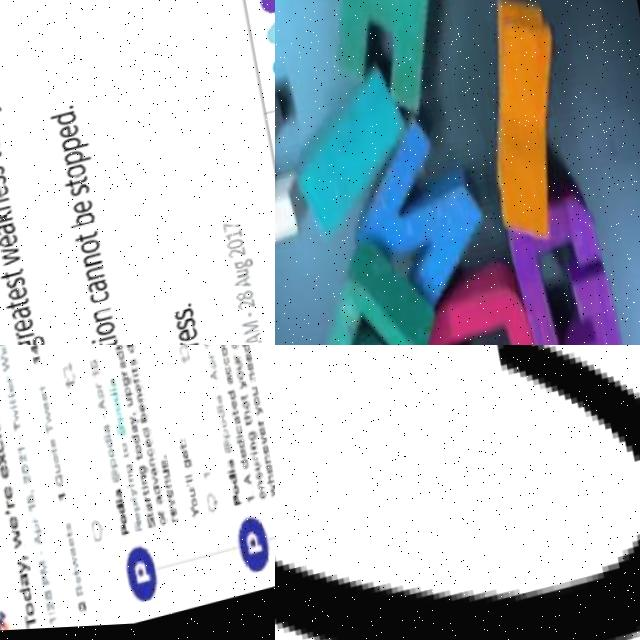0: (228, 242, 246, 256), (24, 465, 32, 476)
1: (225, 232, 245, 246), (60, 493, 68, 504), (52, 618, 62, 626), (32, 507, 39, 514), (20, 448, 27, 455), (35, 359, 42, 366), (94, 373, 101, 380), (250, 499, 257, 506), (206, 345, 214, 351), (206, 477, 213, 482)
2: (239, 301, 259, 316), (231, 249, 249, 263), (48, 601, 59, 614), (81, 603, 90, 615), (21, 455, 30, 465), (26, 476, 34, 486)
4: (32, 345, 40, 357)
5: (29, 495, 37, 507), (93, 361, 101, 372)
7: (224, 224, 243, 237)
8: (238, 293, 256, 307), (48, 591, 56, 602)
A: (22, 574, 34, 590), (97, 399, 108, 414), (37, 534, 45, 548), (246, 476, 254, 490), (212, 373, 220, 385), (118, 490, 126, 501), (105, 425, 113, 436), (158, 497, 166, 508), (236, 419, 244, 430), (228, 378, 236, 389), (110, 380, 118, 390), (148, 505, 156, 515), (133, 427, 141, 437), (121, 363, 129, 373), (153, 470, 161, 480), (230, 462, 238, 472), (217, 397, 225, 407), (244, 405, 252, 415)
B: (142, 415, 150, 425)
C: (275, 538, 640, 640), (0, 439, 8, 455), (237, 428, 246, 439), (226, 369, 235, 380), (225, 359, 233, 370), (149, 451, 157, 461)
D: (315, 239, 450, 345), (23, 588, 36, 605), (117, 352, 126, 364), (128, 346, 137, 357), (243, 345, 252, 356), (133, 437, 142, 447), (219, 413, 228, 423), (121, 506, 129, 517), (112, 394, 120, 405), (156, 488, 164, 499), (232, 478, 240, 489), (230, 393, 238, 404), (106, 441, 114, 451), (145, 432, 153, 442), (243, 463, 251, 473), (239, 443, 247, 453)
E: (10, 515, 23, 533), (5, 486, 17, 503), (1, 465, 13, 482), (51, 439, 60, 450), (261, 493, 270, 504), (264, 448, 273, 459), (184, 451, 192, 463), (70, 539, 79, 549), (42, 393, 51, 403), (136, 386, 145, 396), (248, 365, 257, 375), (2, 346, 10, 357), (72, 549, 80, 560), (137, 514, 145, 525), (147, 440, 155, 451), (140, 405, 148, 416), (267, 467, 275, 478), (247, 355, 255, 366), (9, 384, 17, 394), (78, 577, 86, 587), (45, 403, 53, 413), (172, 510, 180, 520), (168, 492, 176, 502), (163, 462, 171, 472), (242, 452, 250, 462), (233, 403, 241, 413), (261, 430, 269, 440)
F: (134, 379, 141, 386), (160, 514, 167, 519)
G: (486, 168, 633, 345), (127, 465, 135, 476), (141, 467, 149, 478), (125, 378, 133, 389), (187, 461, 195, 472), (251, 434, 259, 445)
H: (275, 62, 328, 289), (245, 413, 253, 423), (268, 477, 275, 487)
I: (111, 389, 118, 395), (118, 348, 125, 354), (238, 437, 245, 443), (105, 435, 113, 440), (12, 405, 19, 410), (118, 501, 125, 506), (130, 486, 137, 491), (143, 488, 150, 493), (134, 375, 141, 380), (230, 473, 237, 478), (219, 408, 226, 413), (0, 435, 4, 441), (253, 456, 259, 459)
L: (188, 477, 195, 483), (134, 501, 140, 503), (189, 483, 195, 485)
M: (42, 560, 51, 577)
N: (128, 476, 137, 486), (151, 459, 159, 470), (260, 484, 268, 495), (252, 444, 260, 455), (251, 375, 259, 386), (143, 477, 151, 487), (138, 395, 146, 405), (166, 482, 174, 492), (266, 458, 274, 468), (115, 345, 123, 348)
O: (408, 270, 545, 345), (27, 603, 39, 619), (193, 500, 202, 512), (234, 488, 243, 500), (122, 516, 131, 527), (110, 450, 118, 462), (115, 404, 123, 416), (238, 373, 246, 385), (54, 456, 63, 466), (162, 518, 170, 529), (222, 349, 230, 360), (255, 399, 263, 410), (123, 446, 131, 456), (137, 447, 145, 457), (222, 423, 230, 433)
P: (225, 431, 234, 443), (45, 575, 53, 587), (124, 526, 132, 538), (236, 498, 244, 510), (99, 391, 108, 401), (117, 414, 126, 424), (113, 460, 121, 471), (134, 503, 142, 514), (126, 389, 134, 400), (212, 362, 220, 373), (37, 525, 45, 535)
Q: (55, 474, 68, 490)
R: (138, 524, 146, 536), (78, 587, 87, 597), (9, 500, 17, 510), (7, 377, 15, 384), (147, 498, 154, 506), (173, 519, 181, 526), (236, 357, 243, 365), (260, 422, 267, 430), (34, 518, 41, 525), (97, 384, 104, 391), (123, 372, 130, 379), (255, 459, 262, 466), (209, 355, 216, 362)
S: (149, 520, 161, 533), (67, 523, 76, 533), (257, 474, 266, 484), (132, 360, 140, 370), (232, 345, 240, 353)
T: (28, 613, 42, 632), (15, 422, 24, 433), (47, 426, 55, 436), (124, 454, 132, 462), (138, 456, 146, 464), (11, 400, 19, 407), (75, 571, 82, 579), (40, 387, 47, 395), (150, 514, 157, 522), (234, 413, 241, 421), (10, 393, 17, 400), (52, 450, 59, 457), (145, 492, 152, 499), (133, 369, 140, 376), (183, 447, 190, 454), (247, 423, 254, 430), (242, 398, 249, 405), (0, 425, 3, 437), (68, 534, 75, 539)
U: (164, 472, 173, 482), (236, 364, 245, 374), (253, 389, 262, 399), (57, 466, 65, 476), (128, 400, 136, 410), (191, 490, 199, 500), (256, 465, 264, 475), (220, 345, 228, 349)
V: (169, 500, 178, 510), (263, 438, 271, 449), (154, 479, 162, 489)
W: (13, 530, 26, 551), (3, 356, 12, 373), (74, 557, 83, 573), (13, 409, 22, 424), (46, 412, 55, 427), (271, 487, 275, 502)
X: (0, 452, 10, 467)
Y: (20, 561, 34, 576), (130, 417, 141, 428), (195, 509, 203, 522), (241, 384, 250, 394), (257, 409, 266, 419), (133, 489, 141, 499)
